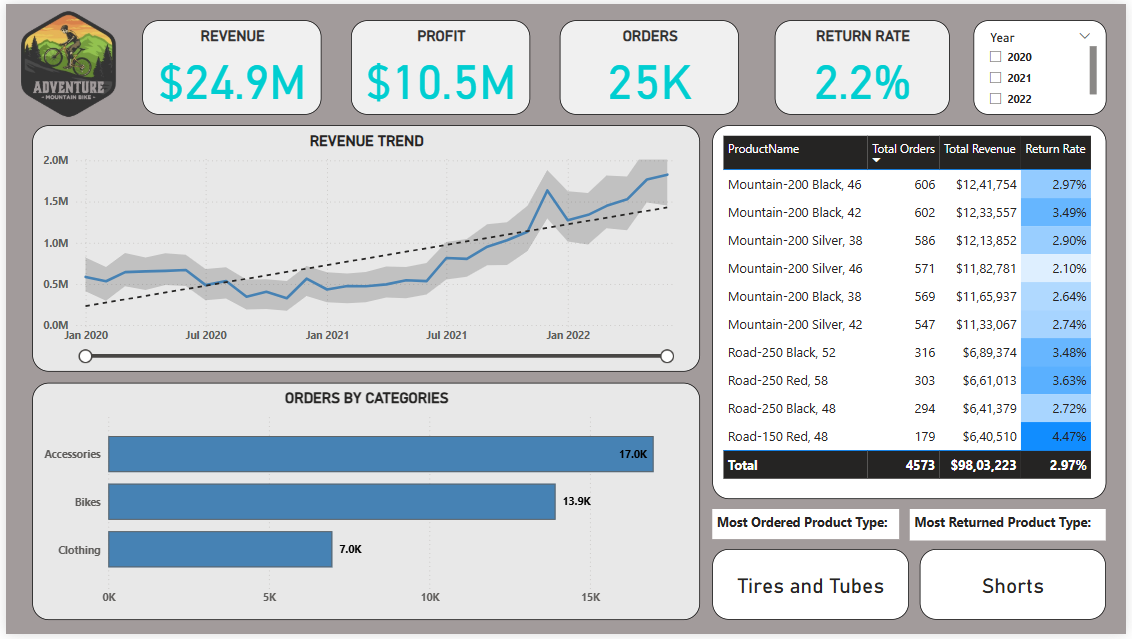

The dashboard page shown, as its layout file describes it:
{"tool":"powerbi","page":{"name":"Dashboard","canvas":[1280,720],"ordinal":0},"visuals":[{"type":"card","title":"REVENUE","fields":{"Values":["Measure Table.Total Revenue"]},"box":[155,18.3,205,108.3],"z":0,"group":"g1"},{"type":"lineChart","title":"REVENUE TREND","fields":{"Y":["Measure Table.Total Revenue"],"Category":["Calendar Lookup.Start of Month.Variation.Date Hierarchy.Year","Calendar Lookup.Start of Month.Variation.Date Hierarchy.Quarter","Calendar Lookup.Start of Month.Variation.Date Hierarchy.Month","Calendar Lookup.Start of Month.Variation.Date Hierarchy.Day"]},"box":[30,138.6,762.9,281.4],"z":0},{"type":"card","title":"PROFIT","fields":{"Values":["Measure Table.Total Profit"]},"box":[393.8,18.3,205,108.3],"z":1000,"group":"g1"},{"type":"clusteredBarChart","title":"ORDERS BY CATEGORIES","fields":{"Y":["Measure Table.TOTAL_ORDERS"],"Category":["Product Categories Lookup.CategoryName"]},"box":[30,433,763,271],"z":1000},{"type":"card","title":"RETURN RATE","fields":{"Values":["Measure Table.return_rate"]},"box":[877.5,18.3,200,108.3],"z":2000,"group":"g1"},{"type":"tableEx","fields":{"Values":["Product Lookup.ProductName","Measure Table.TOTAL_ORDERS","Measure Table.Total Revenue","Measure Table.return_rate"]},"box":[807.1,138.6,450,427.1],"z":2000},{"type":"card","title":"ORDERS","fields":{"Values":["Measure Table.TOTAL_ORDERS"]},"box":[632.5,18.3,205,108.3],"z":3000,"group":"g1"},{"type":"card","fields":{"Values":["Min(Product Subcategories Lookup.SubcategoryName)"]},"box":[807,623,225,81],"z":3000},{"type":"card","fields":{"Values":["Min(Product Subcategories Lookup.SubcategoryName)"]},"box":[1044,623,213,81],"z":4000},{"type":"slicer","title":"Slicer","fields":{"Values":["Calendar Lookup.Date.Variation.Date Hierarchy.Year"]},"box":[1105,18.3,151.7,108.3],"z":5000},{"type":"textbox","box":[806.7,577.8,213.3,34.4],"z":6000},{"type":"textbox","box":[1032.9,577.1,224.3,35.7],"z":7000},{"type":"group","id":"g1","title":"Group 1","box":[155,18.3,921.7,108.3],"z":9000},{"type":"image","box":[0,0,142.9,138.6],"z":9001}]}

Visuals, with their boxes in screenshot pixels (x1, y1, x2, y2), scaled from the page's 1280x720 canvas onto the 1132x639 screenshot:
"REVENUE" card: detection(137, 16, 318, 112)
"REVENUE TREND" lineChart: detection(27, 123, 701, 373)
"PROFIT" card: detection(348, 16, 530, 112)
"ORDERS BY CATEGORIES" clusteredBarChart: detection(27, 384, 701, 625)
"RETURN RATE" card: detection(776, 16, 953, 112)
tableEx - Product Lookup.ProductName x Measure Table.TOTAL_ORDERS: detection(714, 123, 1112, 502)
"ORDERS" card: detection(559, 16, 741, 112)
card - Min(Product Subcategories Lookup.SubcategoryName): detection(714, 553, 913, 625)
card - Min(Product Subcategories Lookup.SubcategoryName): detection(923, 553, 1112, 625)
"Slicer" slicer: detection(977, 16, 1111, 112)
textbox: detection(713, 513, 902, 543)
textbox: detection(913, 512, 1112, 544)
"Group 1" group: detection(137, 16, 952, 112)
image: detection(0, 0, 126, 123)
